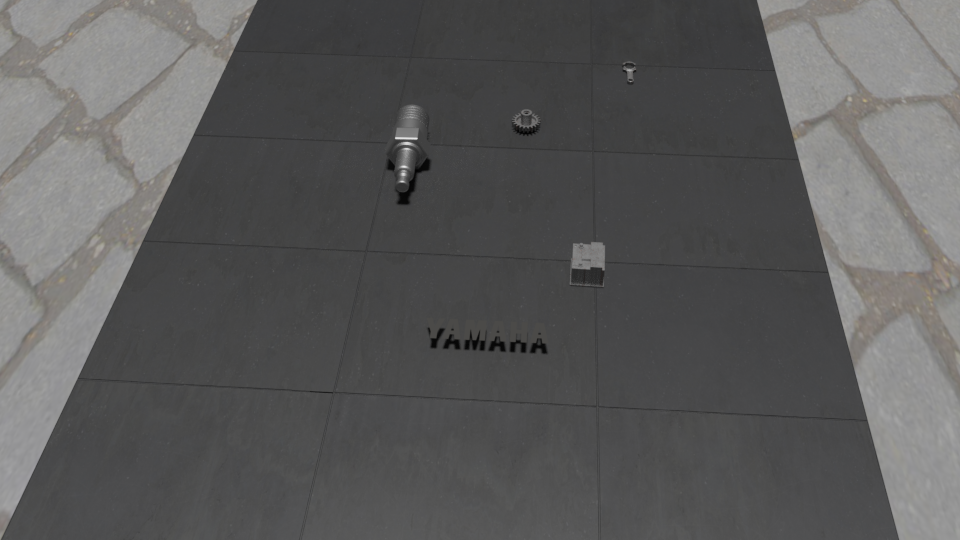yamaha_letters: (426, 317, 548, 344)
